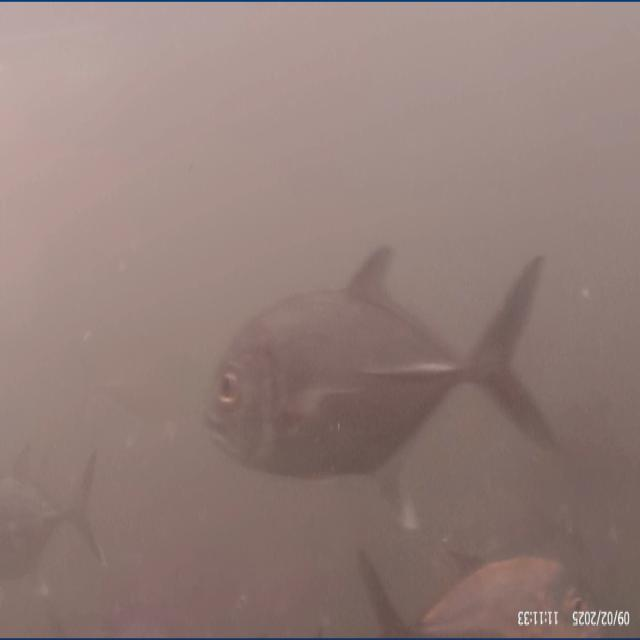ikan: (190, 230, 580, 502)
